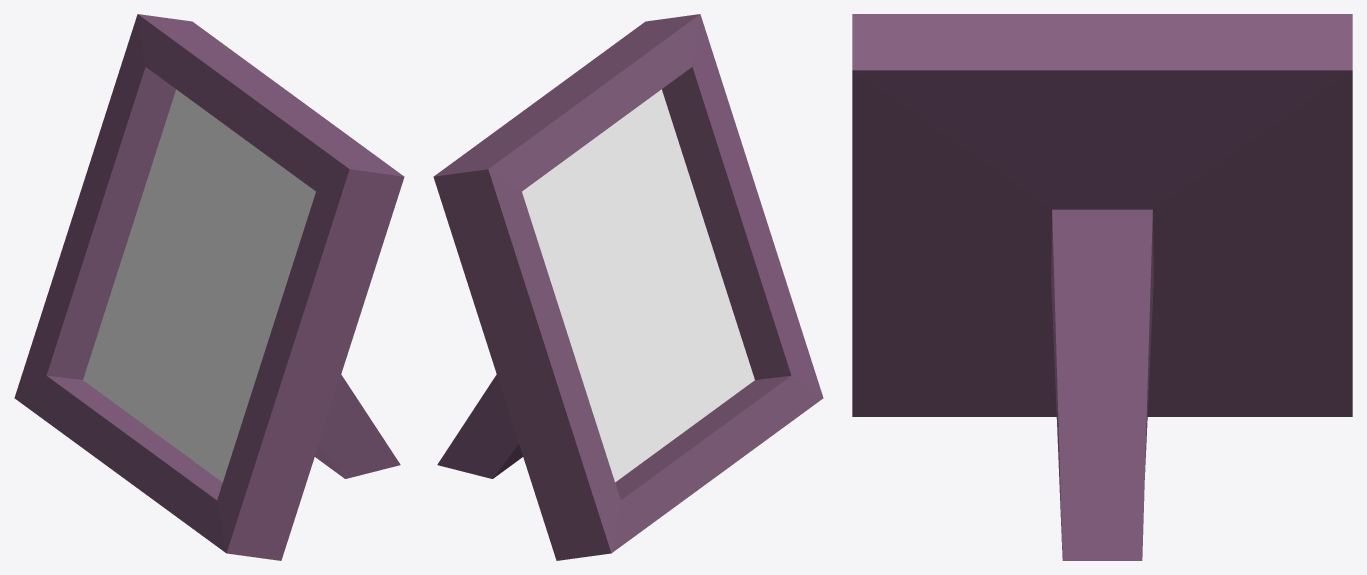
File: Picture Frame_19.fbx
The picture shows the model from 3 angles, left to right: view 1: azimuth 30°, elevation 25°; view 2: azimuth 150°, elevation 25°; view 3: azimuth 270°, elevation 25°; orthographic projection. The views are drawn at different scales.
Visible parts, largest first — view 1: Picture Frame_19; view 2: Picture Frame_19; view 3: Picture Frame_19.
Part boxes in pixels (x1,y1,x2,y2): Picture Frame_19: (14, 14, 404, 560); Picture Frame_19: (433, 14, 823, 560); Picture Frame_19: (852, 14, 1352, 560).
Bounding box in the file's own units: 0.1138 × 0.1634 × 0.1587.
